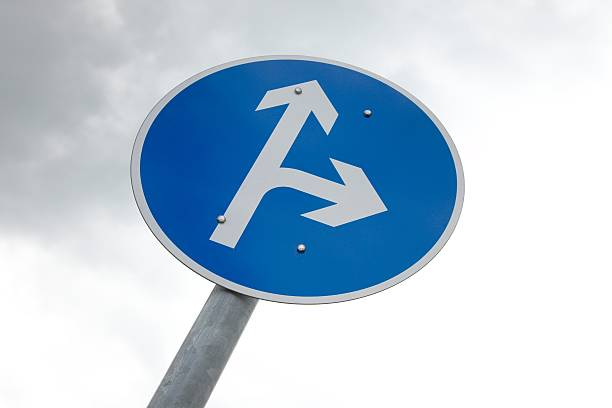ileri_veya_saga: (131, 51, 465, 308)
